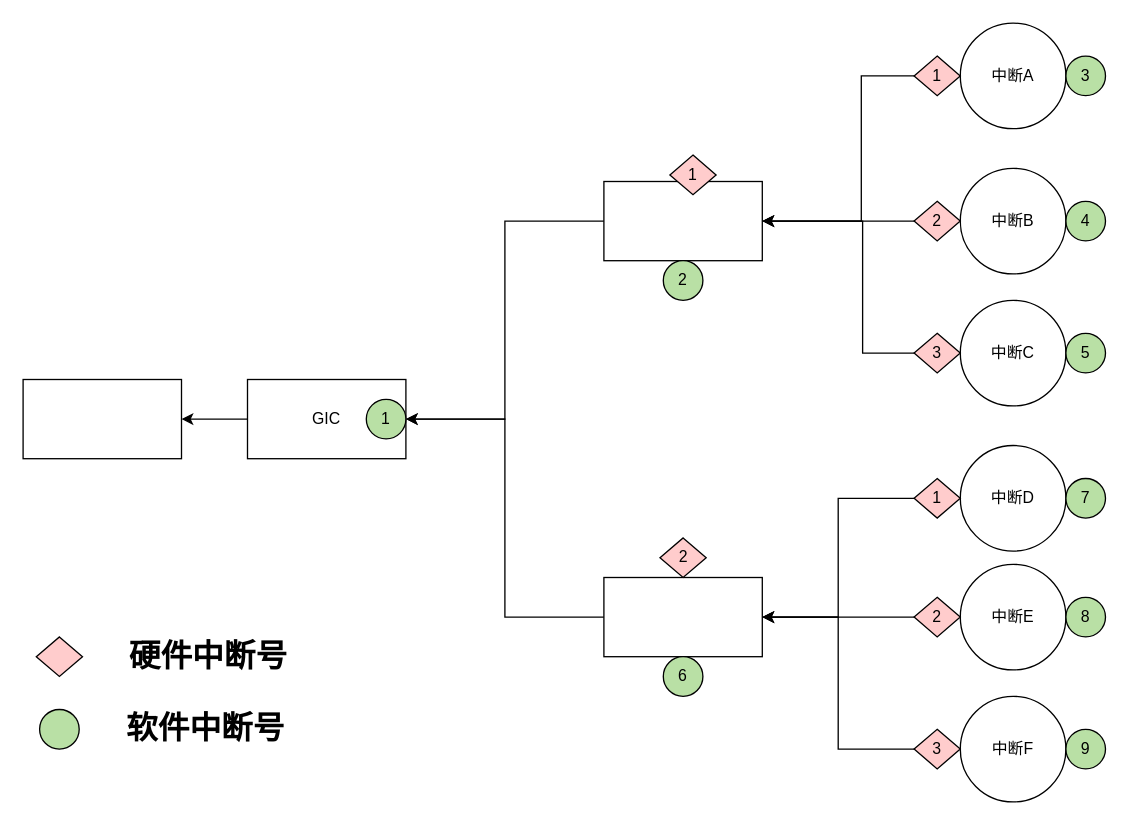
Some shapes in this 1129 by 825 pixel diagram are drawn without their labels. The box of each missing label's shape, as (x1, y1, x2, y2) in pixels:
ARM CPU: (22, 378, 182, 459)
中断控制器1 （GPIO）: (603, 180, 762, 261)
中断控制器2 （I2C）: (603, 576, 762, 657)
